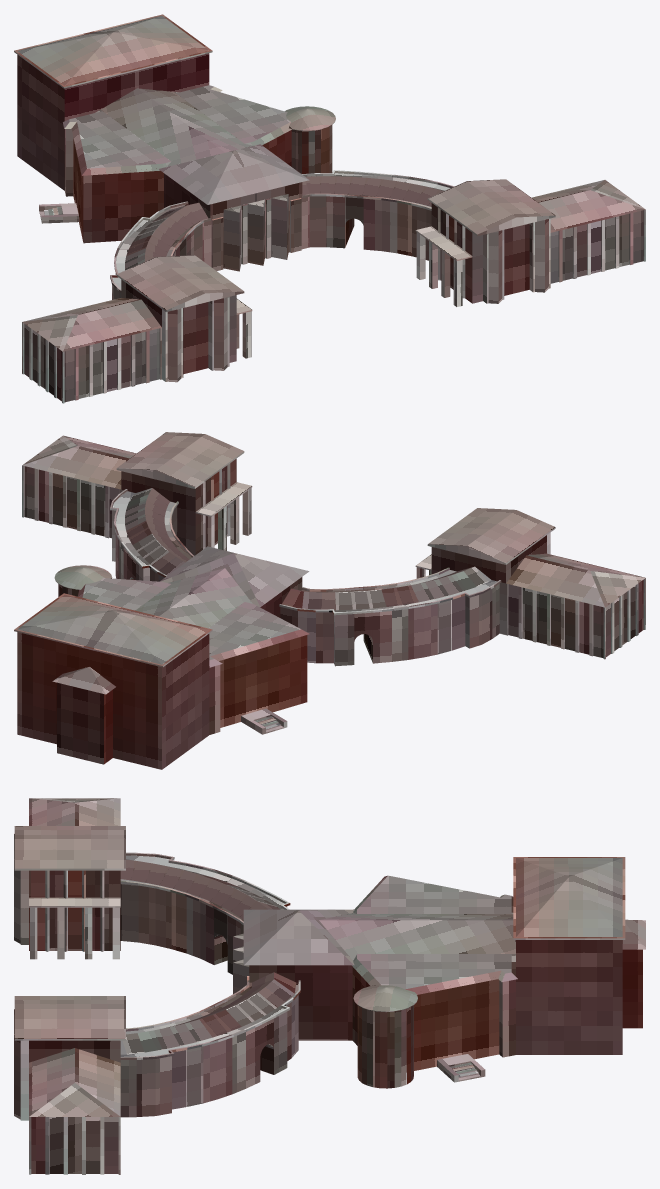
3 renders of one model, top to bottom at view 1: azimuth 30°, elevation 25°; view 2: azimuth 150°, elevation 25°; view 3: azimuth 270°, elevation 25°, orthographic. The views are drawn at different scales.
Visible parts, largest first — view 1: Untitled; view 2: Untitled; view 3: Untitled.
Part boxes in pixels (x1=…): Untitled: x1=14, y1=14, x2=645, y2=403; Untitled: x1=14, y1=432, x2=645, y2=769; Untitled: x1=14, y1=798, x2=645, y2=1174.
Bounding box in the file's own units: 155 × 31.43 × 130.
5 materials, 5 textured.
